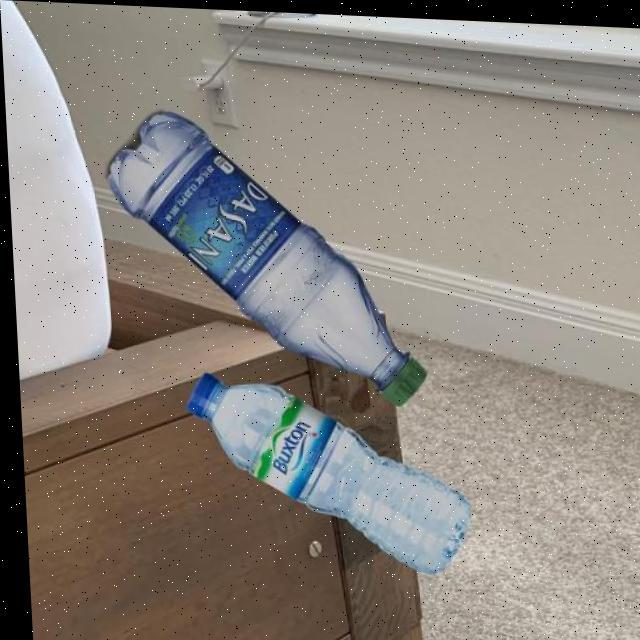bottle: (100, 104, 426, 405), (179, 367, 468, 573)
